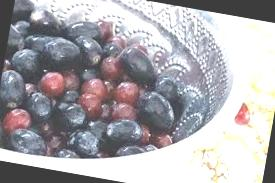Grape Rotten: (0, 0, 197, 177)
